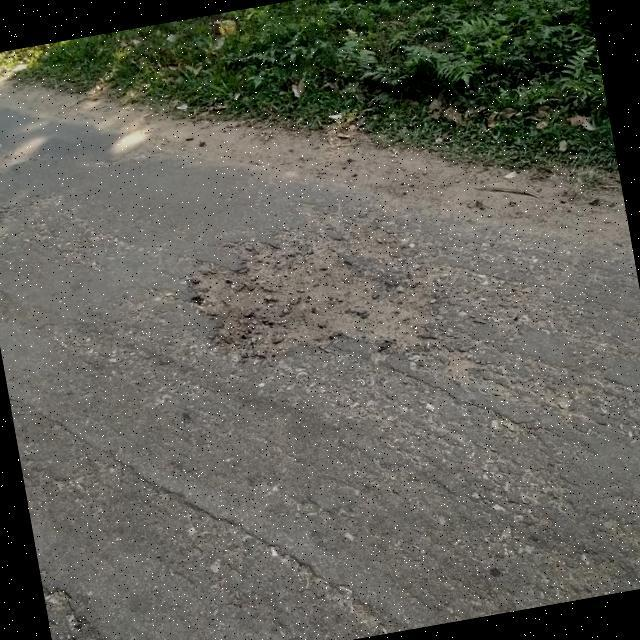Pothole: (191, 221, 475, 386)
